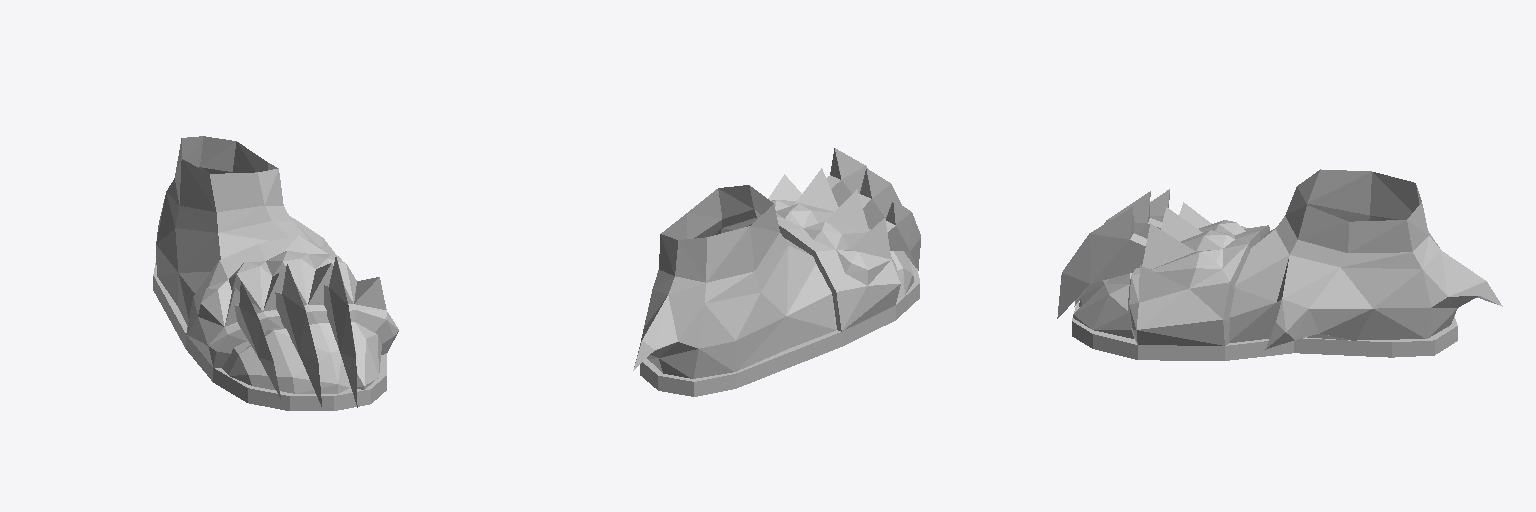
Rendered from p2_foot.obj.
3 views of the same model, side by side, from view 1: azimuth 30°, elevation 25°; view 2: azimuth 150°, elevation 25°; view 3: azimuth 270°, elevation 25° (orthographic).
Visible parts, largest first — view 1: Predatorbody1.003; view 2: Predatorbody1.003; view 3: Predatorbody1.003.
Boxes of the visible parts, box(x1,y1,x2,y2) form: Predatorbody1.003: box(153, 136, 398, 410); Predatorbody1.003: box(633, 148, 920, 396); Predatorbody1.003: box(1057, 169, 1502, 360).
Bounding box in the file's own units: 0.4318 × 0.3418 × 0.922.